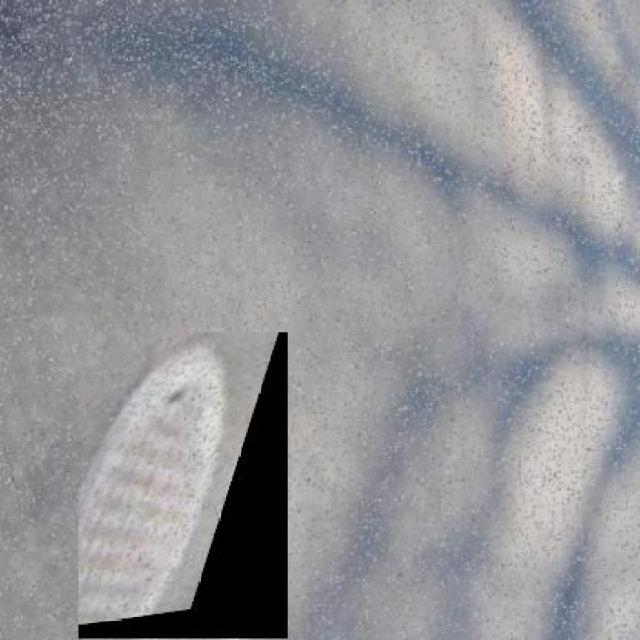Manhole: (79, 332, 288, 638)
